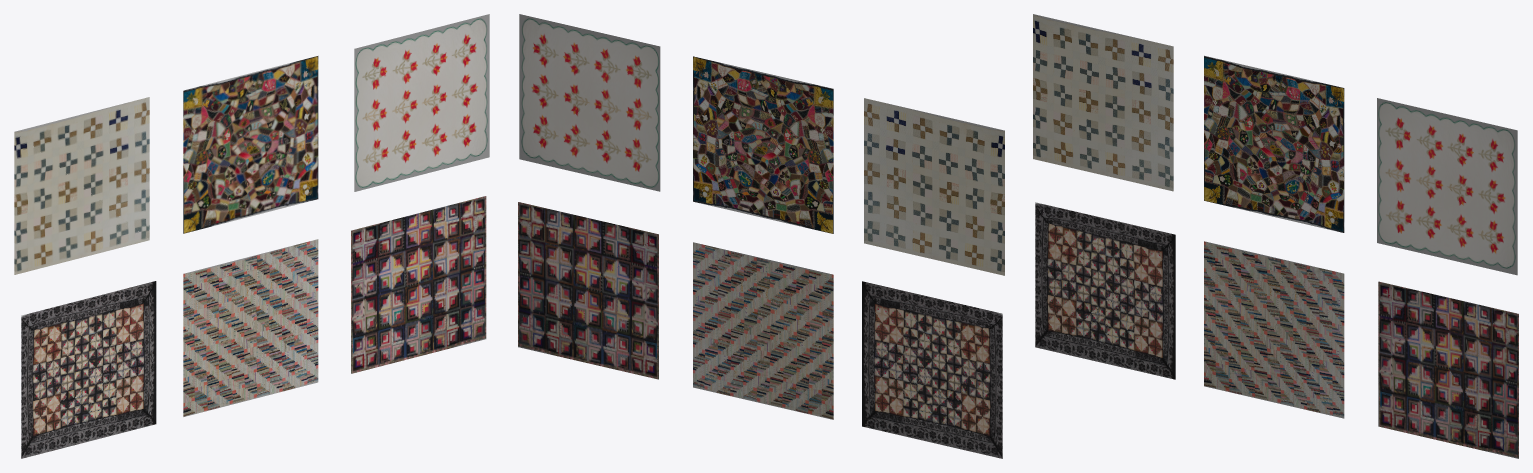
Rendered from six_quilts_in_a_pod.glb.
The picture shows the model from 3 angles, left to right: view 1: azimuth 30°, elevation 25°; view 2: azimuth 150°, elevation 25°; view 3: azimuth 330°, elevation 25°; orthographic projection.
Visible parts, largest first — view 1: Plane.004, Plane.005, Plane, Plane.002, Plane.001, Plane.003; view 2: Plane.004, Plane, Plane.001, Plane.002, Plane.003, Plane.005; view 3: Plane.001, Plane.002, Plane.005, Plane, Plane.004, Plane.003.
Boxes of the visible parts, x1=… form: Plane.004: x1=354, y1=14, x2=489, y2=191; Plane.005: x1=14, y1=97, x2=149, y2=274; Plane: x1=183, y1=239, x2=318, y2=416; Plane.002: x1=21, y1=281, x2=156, y2=458; Plane.001: x1=351, y1=196, x2=486, y2=373; Plane.003: x1=183, y1=56, x2=318, y2=233; Plane.004: x1=519, y1=14, x2=660, y2=191; Plane: x1=693, y1=242, x2=833, y2=419; Plane.001: x1=518, y1=202, x2=658, y2=379; Plane.002: x1=862, y1=281, x2=1002, y2=458; Plane.003: x1=693, y1=56, x2=833, y2=233; Plane.005: x1=864, y1=98, x2=1004, y2=275; Plane.001: x1=1378, y1=281, x2=1518, y2=458; Plane.002: x1=1035, y1=202, x2=1175, y2=379; Plane.005: x1=1033, y1=14, x2=1173, y2=191; Plane: x1=1204, y1=241, x2=1344, y2=418; Plane.004: x1=1377, y1=98, x2=1517, y2=275; Plane.003: x1=1204, y1=55, x2=1344, y2=232.
Size of the model in its own units: 6.96 by 4.56 by 0.1638.
6 materials, 6 textured.
